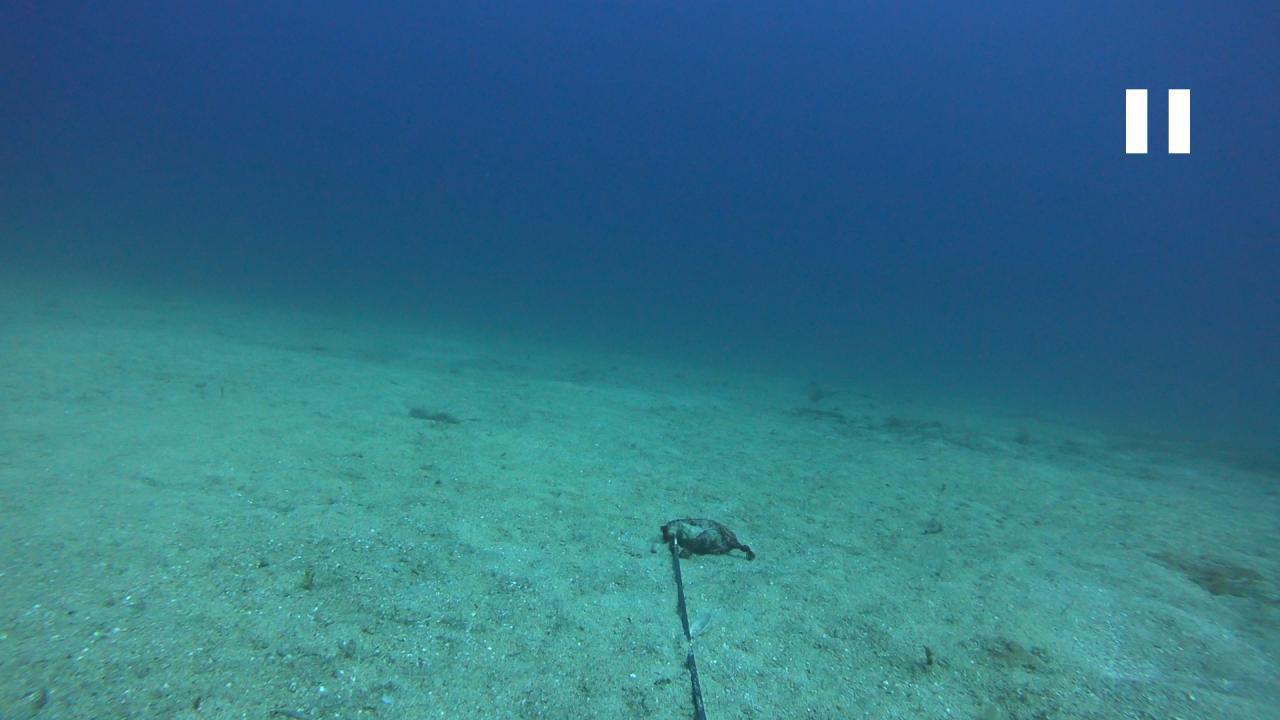dasyatis: (801, 378, 880, 402)
